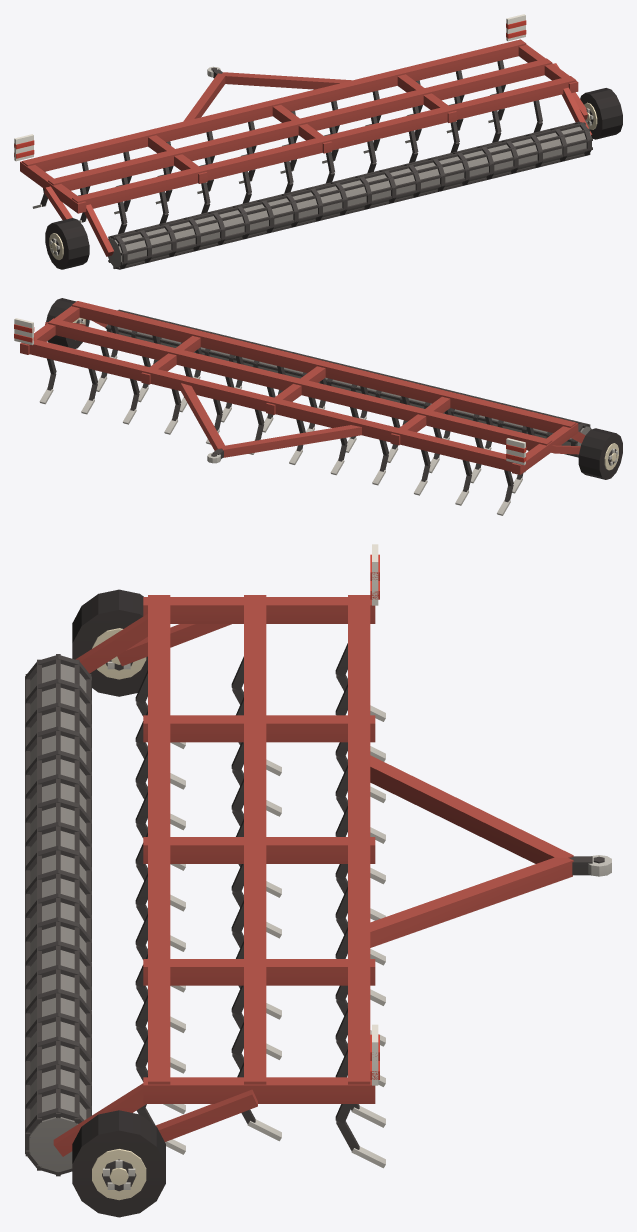
File: cultivator_basic.glb
The picture shows the model from 3 angles, top to bottom: view 1: azimuth 30°, elevation 25°; view 2: azimuth 150°, elevation 25°; view 3: azimuth 270°, elevation 25°; orthographic projection. The views are drawn at different scales.
Parts seen in each view (by area): view 1: cultivator_basic, roller, spin_main_L, spin_main_R; view 2: cultivator_basic, roller, spin_main_L, spin_main_R; view 3: cultivator_basic, roller, spin_main_R, spin_main_L.
Boxes of the visible parts, box(x1,y1,x2,y2) form: cultivator_basic: box(14, 14, 592, 256); roller: box(108, 121, 592, 269); spin_main_L: box(45, 218, 89, 269); spin_main_R: box(580, 88, 622, 139); cultivator_basic: box(14, 301, 585, 515); roller: box(105, 309, 591, 457); spin_main_L: box(578, 428, 622, 479); spin_main_R: box(46, 298, 89, 348); cultivator_basic: box(53, 544, 611, 1168); roller: box(25, 654, 91, 1176); spin_main_R: box(72, 1110, 165, 1217); spin_main_L: box(72, 589, 147, 696).
Bounding box in the file's own units: 8.09 × 1.06 × 3.67.
Materials: 2 (2 with a texture image).
